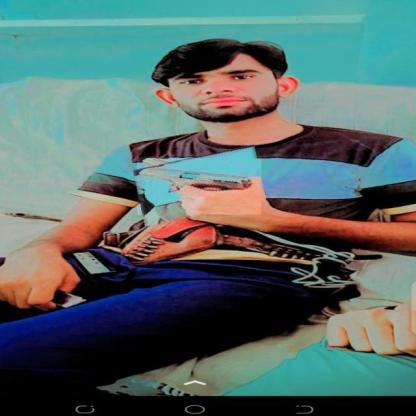handgun: (135, 150, 263, 221)
